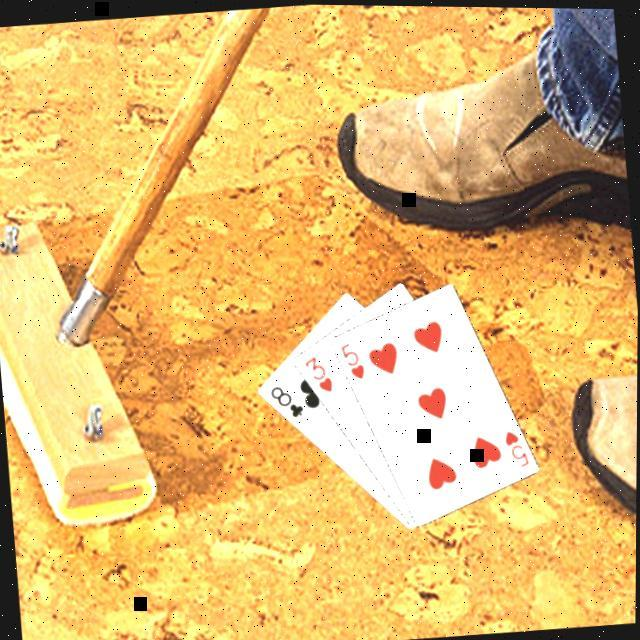3H: (299, 349, 335, 395)
5H: (499, 422, 531, 468), (335, 335, 367, 380)
8C: (266, 379, 307, 420)
